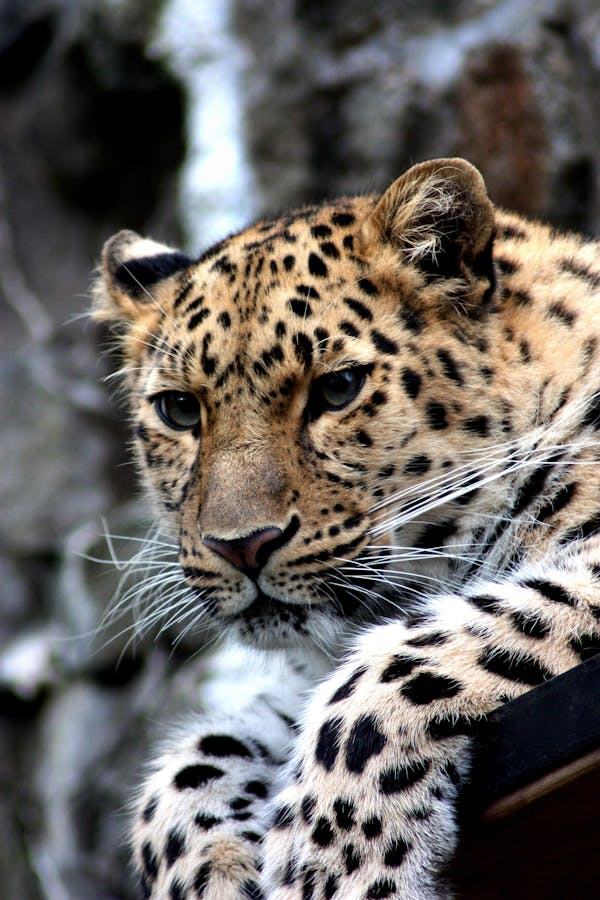Leopard: (86, 158, 600, 900)
